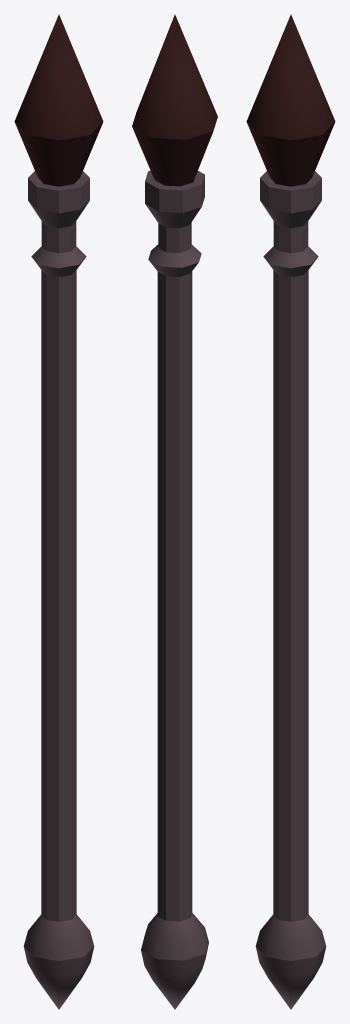
File: staff.glb
3 renders of one model, left to right at view 1: azimuth 90°, elevation 25°; view 2: azimuth 150°, elevation 25°; view 3: azimuth 270°, elevation 25°, orthographic.
Parts seen in each view (by area): view 1: Cylinder; view 2: Cylinder; view 3: Cylinder.
Part boxes in pixels (<box>): Cylinder: <box>14,14,103,1009</box>; Cylinder: <box>132,14,217,1009</box>; Cylinder: <box>246,14,335,1009</box>.
Size of the model in its own units: 0.8585 by 10.6 by 0.8585.
Materials: 1 (1 with a texture image).
